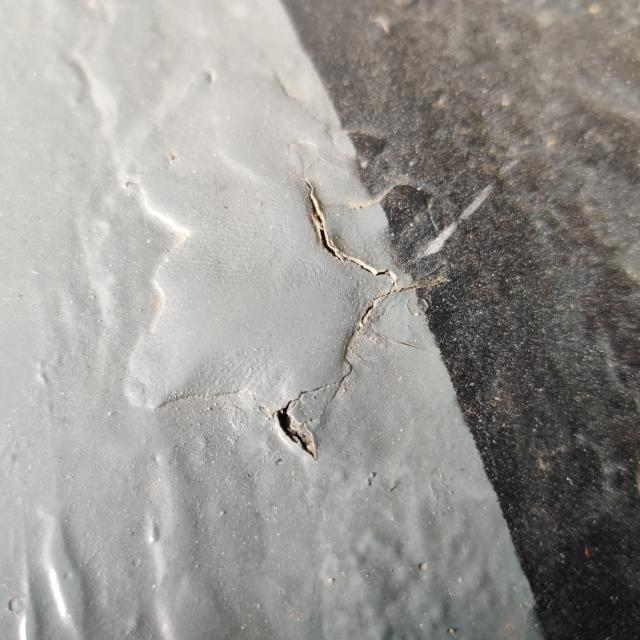crack: (259, 171, 465, 470)
